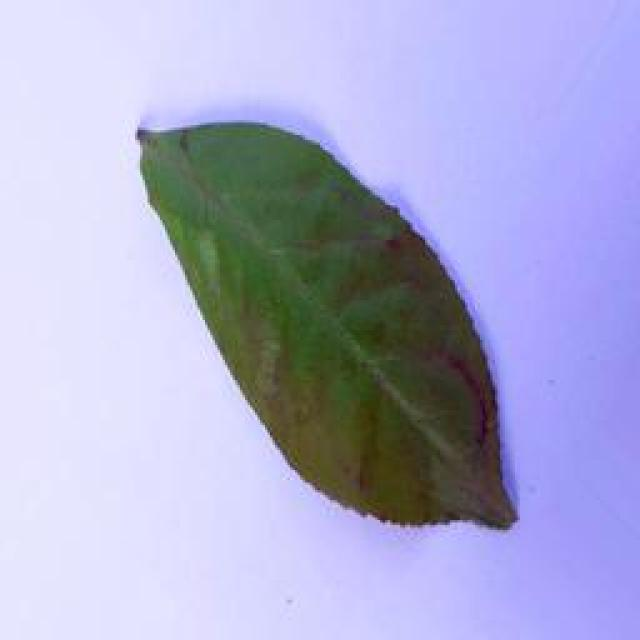Red Leaf Spot: (128, 116, 522, 538)
